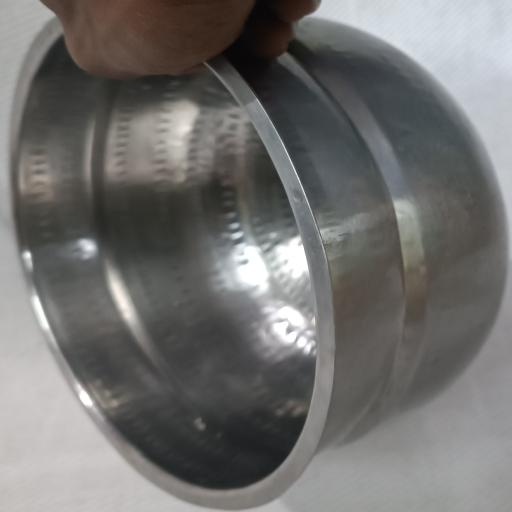vessel: (12, 19, 507, 509)
